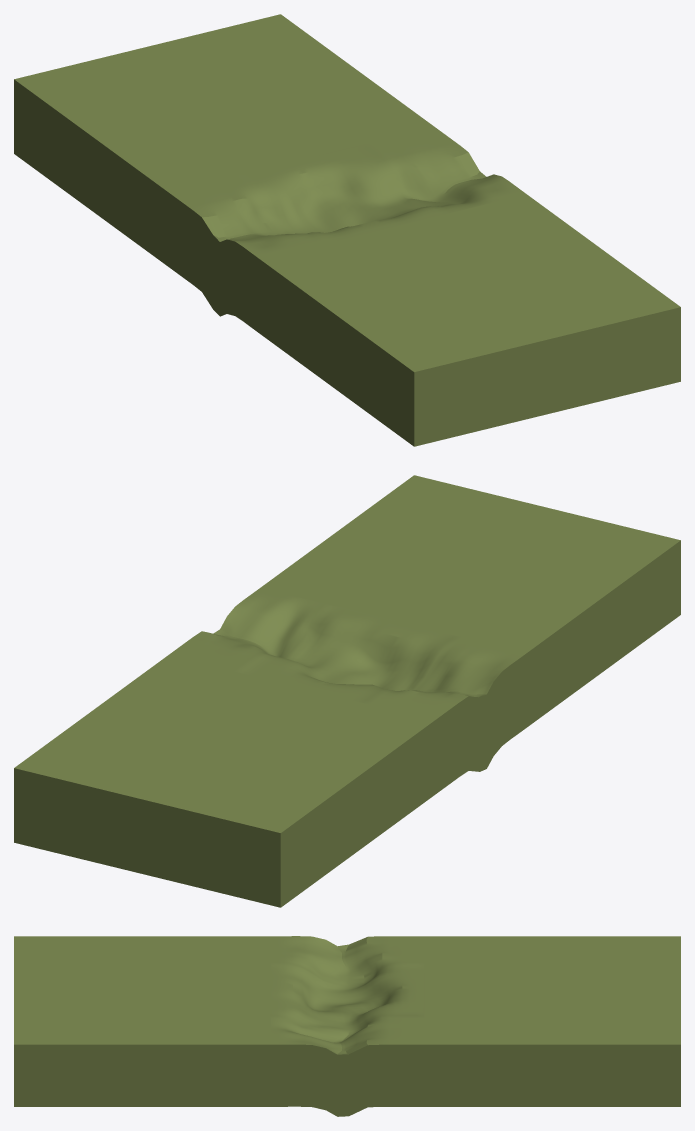
The model's file is Tole_6.fbx.
3 views of the same model, one above another, from view 1: azimuth 30°, elevation 25°; view 2: azimuth 150°, elevation 25°; view 3: azimuth 270°, elevation 25° (orthographic). The views are drawn at different scales.
Parts seen in each view (by area): view 1: Tile 2.002; view 2: Tile 2.002; view 3: Tile 2.002.
Part boxes in pixels (bbox=[...]): Tile 2.002: bbox=[14, 14, 680, 446]; Tile 2.002: bbox=[14, 475, 680, 907]; Tile 2.002: bbox=[14, 936, 680, 1116].
Bounding box in the file's own units: 5000 × 1553 × 12991.
